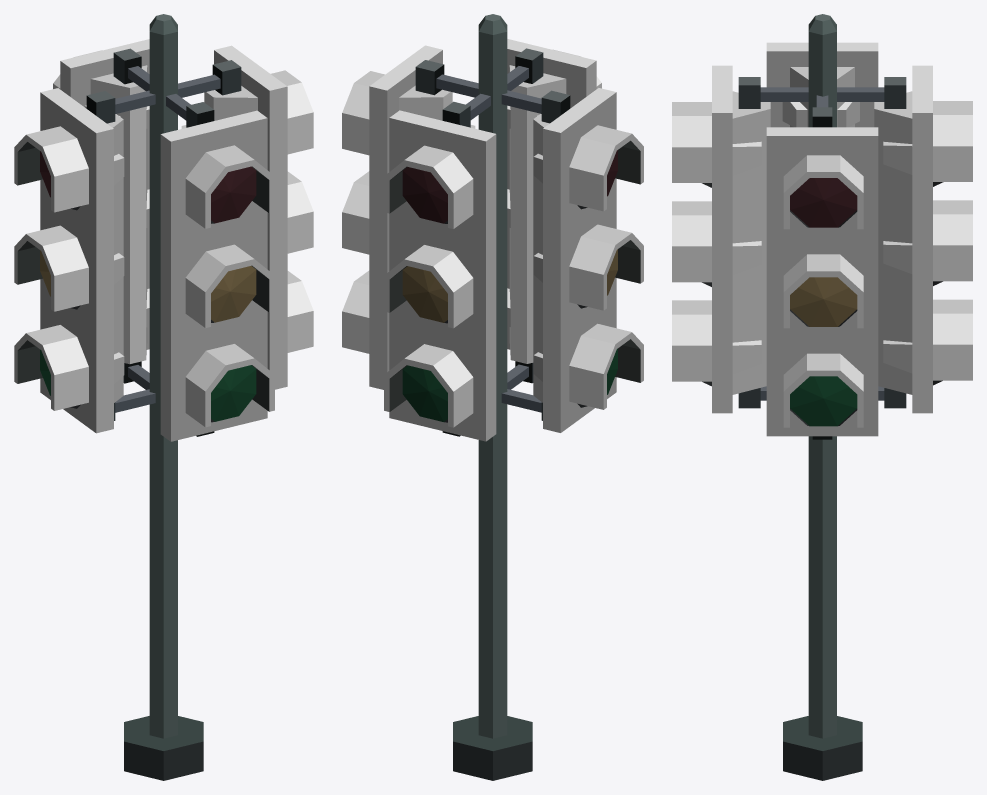
Rendered from TB_CITY_Prop_TrafficLight_4Set_White.FBX.
3 renders of one model, left to right at view 1: azimuth 30°, elevation 25°; view 2: azimuth 150°, elevation 25°; view 3: azimuth 270°, elevation 25°, orthographic.
Visible parts, largest first — view 1: TB_CITY_Prop_TrafficLight_4Set_White; view 2: TB_CITY_Prop_TrafficLight_4Set_White; view 3: TB_CITY_Prop_TrafficLight_4Set_White.
Boxes of the visible parts, x1=… form: TB_CITY_Prop_TrafficLight_4Set_White: x1=14, y1=14, x2=313, y2=780; TB_CITY_Prop_TrafficLight_4Set_White: x1=342, y1=14, x2=643, y2=780; TB_CITY_Prop_TrafficLight_4Set_White: x1=672, y1=14, x2=972, y2=780.
Bounding box in the file's own units: 2.76 × 7.53 × 2.76.
